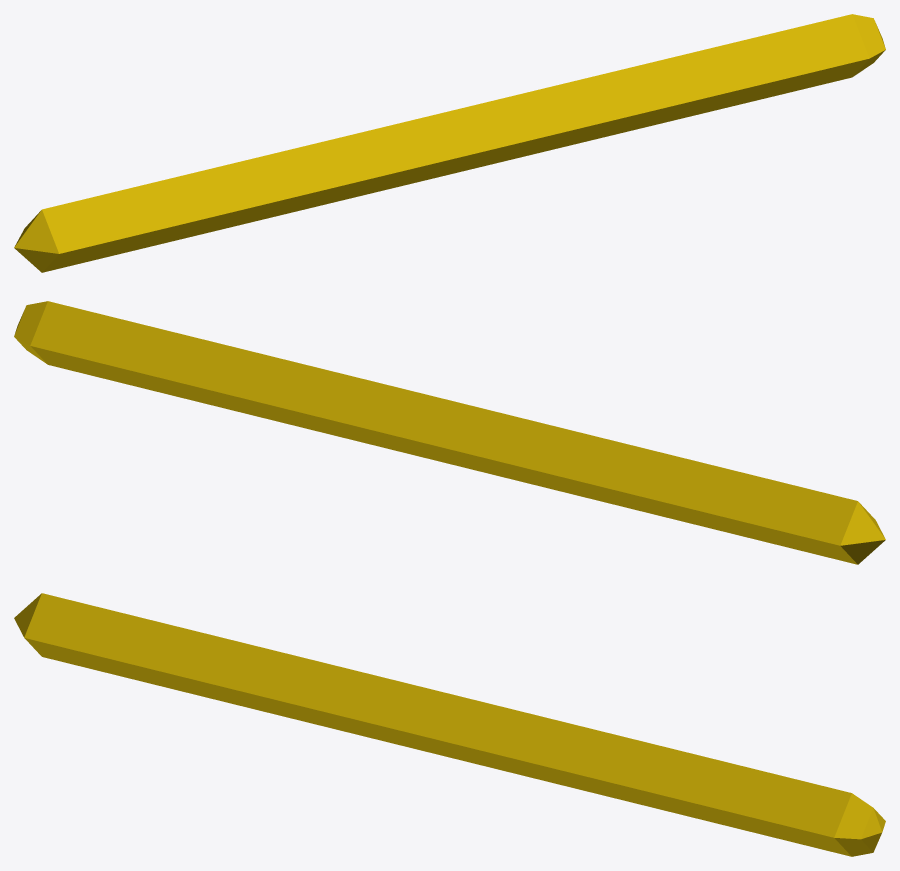
3 views of the same model, one above another, from view 1: azimuth 30°, elevation 25°; view 2: azimuth 150°, elevation 25°; view 3: azimuth 330°, elevation 25° (orthographic).
Visible parts, largest first — view 1: brush_MatteHull_g0_b0; view 2: brush_MatteHull_g0_b0; view 3: brush_MatteHull_g0_b0.
Part boxes in pixels (<box>): brush_MatteHull_g0_b0: <box>14,14,885,272</box>; brush_MatteHull_g0_b0: <box>14,301,885,564</box>; brush_MatteHull_g0_b0: <box>14,593,885,856</box>.
Bounding box in the file's own units: 2.43 × 0.17 × 0.1817.
